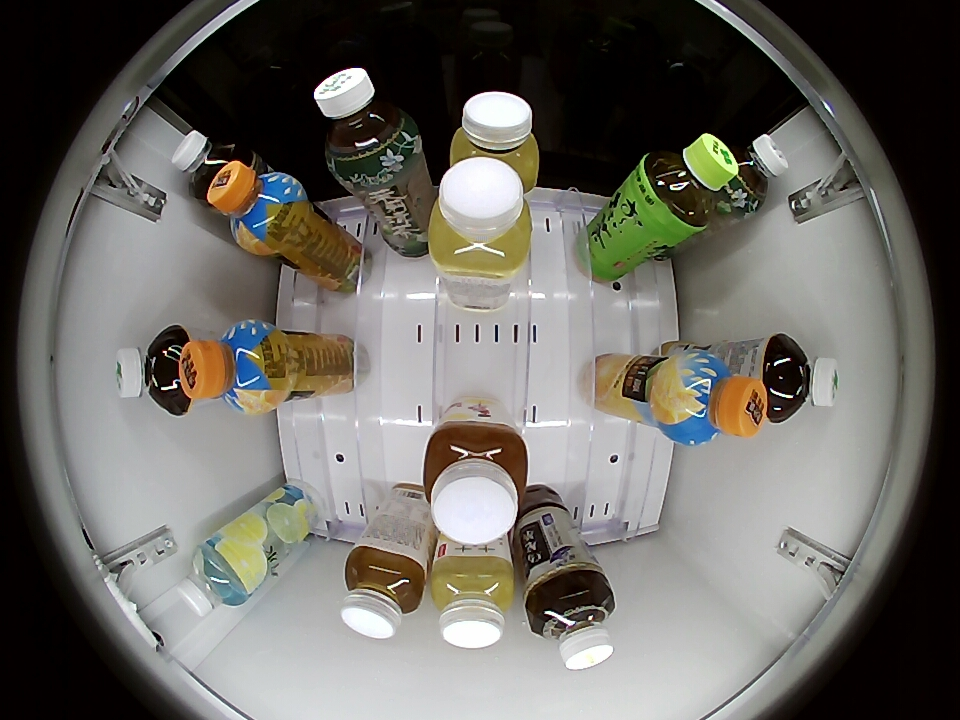chapai: (423, 415, 528, 544), (340, 545, 427, 640)
chapai2: (429, 158, 532, 283), (446, 92, 540, 190), (431, 554, 515, 649)
damaicha: (114, 324, 189, 415), (763, 335, 841, 422)
guolicheng: (655, 349, 766, 446), (178, 320, 287, 414), (207, 160, 305, 252)
moliqingcha: (314, 67, 420, 181), (718, 134, 788, 213)
qinningshui: (177, 541, 254, 616)
wulongcha: (526, 577, 616, 671), (172, 130, 246, 202)
yitengyuan: (637, 132, 738, 234)
